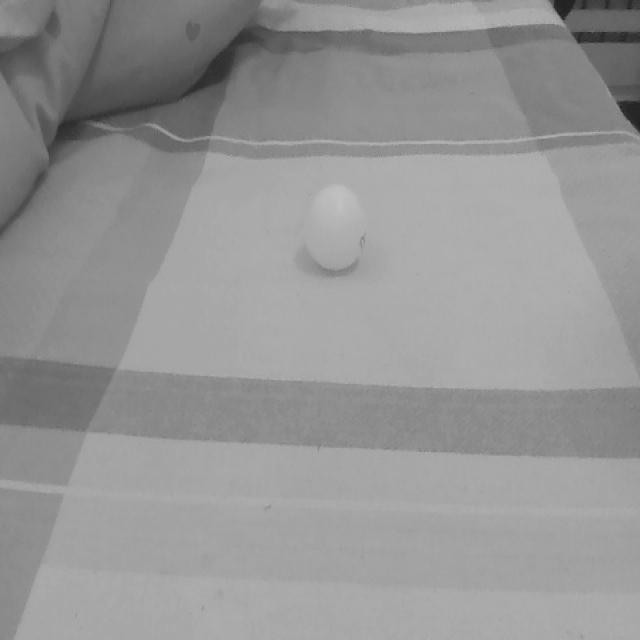ping-pong-ball: (306, 183, 368, 271)
